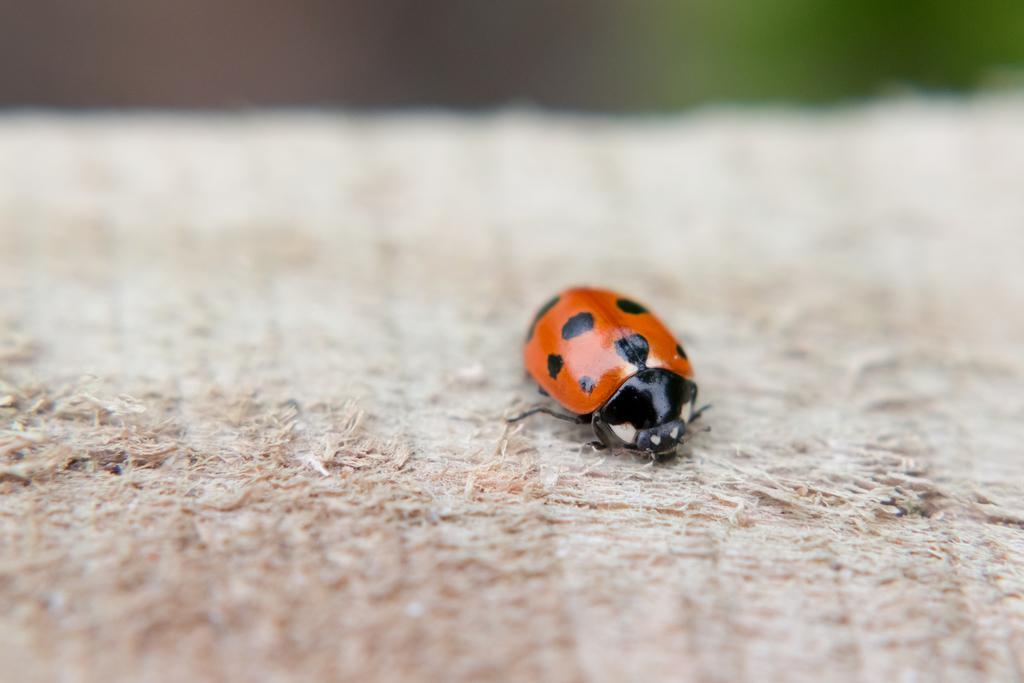ladybug: (501, 284, 724, 476)
